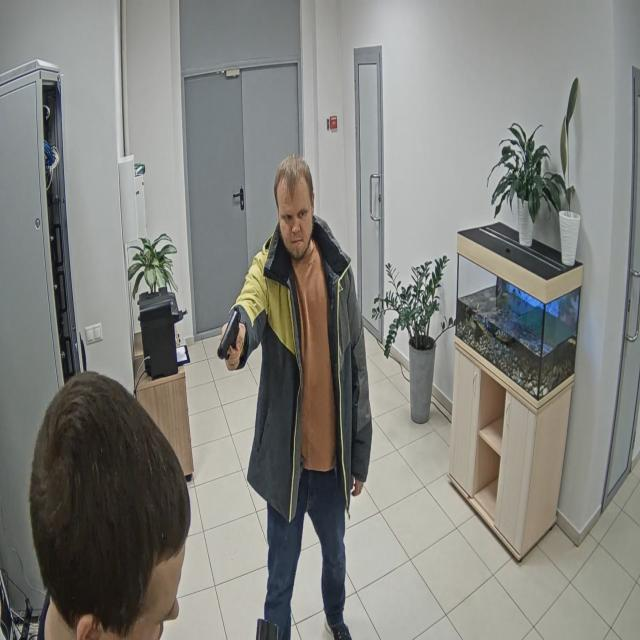-Gun: (219, 309, 240, 359)
